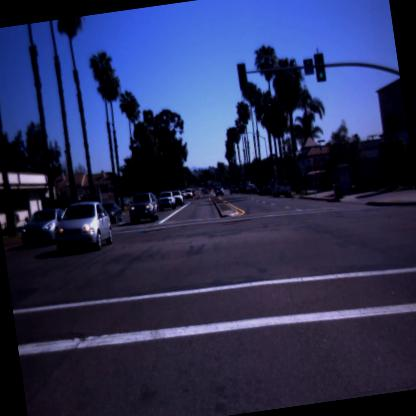trafficlight: (310, 48, 328, 86), (235, 58, 251, 93)
